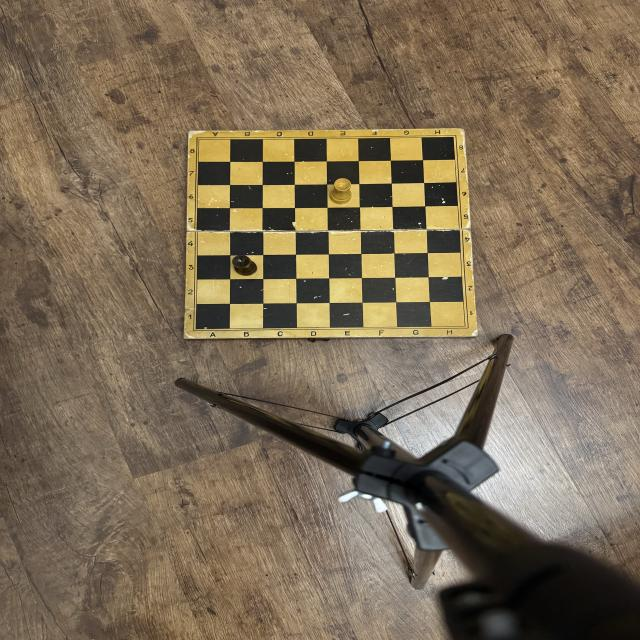black-rook: (232, 254, 257, 276)
white-rook: (330, 178, 352, 205)
